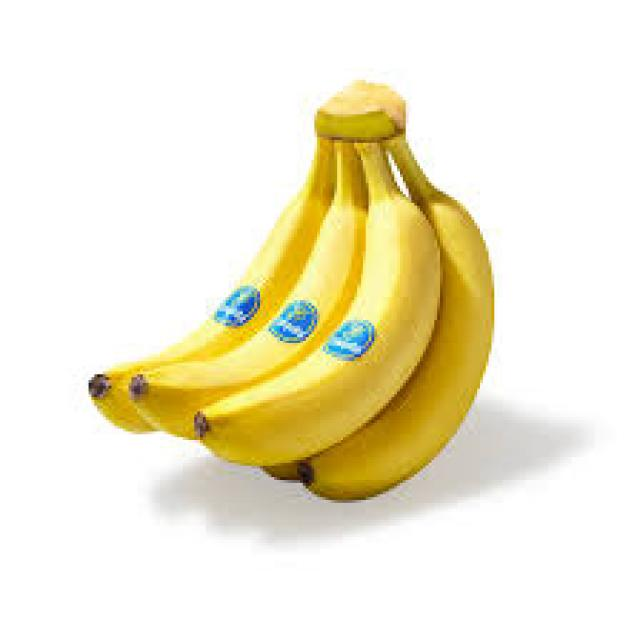banana: (86, 77, 494, 503)
